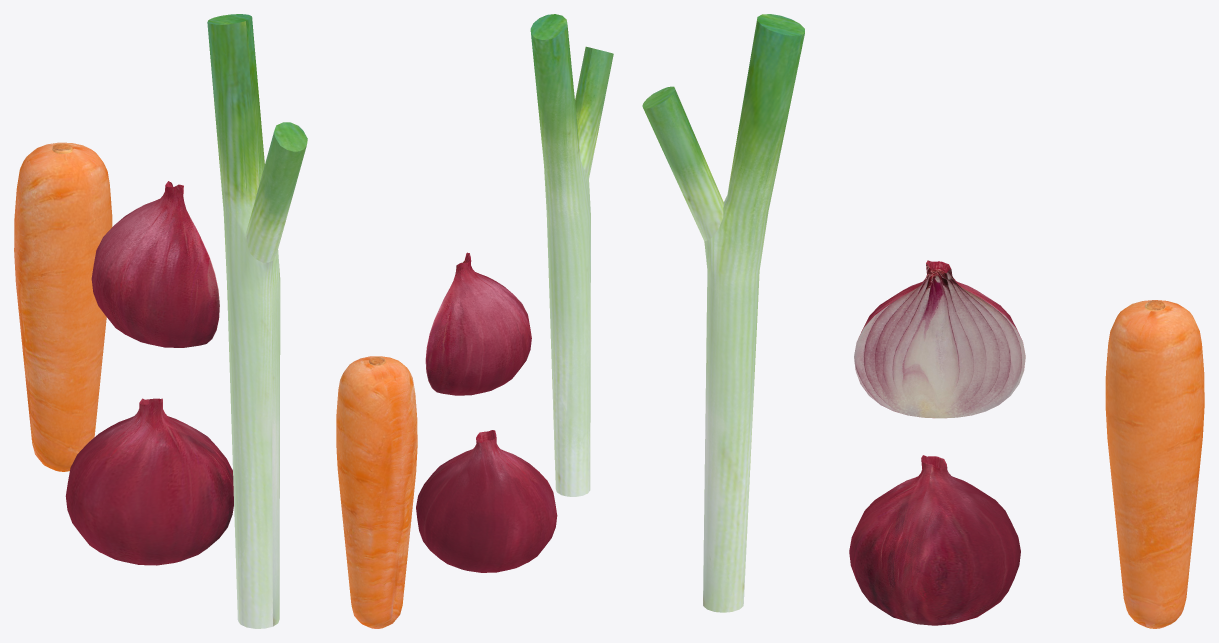
File: low-poly_veges.glb
The picture shows the model from 3 angles, left to right: view 1: azimuth 30°, elevation 25°; view 2: azimuth 150°, elevation 25°; view 3: azimuth 270°, elevation 25°; orthographic projection. The views are drawn at different scales.
Parts seen in each view (by area): view 1: pCylinder3, pSphere2, pSphere3, pSphere1; view 2: pCylinder3, pSphere2, pSphere3, pSphere1; view 3: pCylinder3, pSphere2, pSphere3, pSphere1.
Boxes of the visible parts, box(x1,y1,x2,y2) form: pCylinder3: box(207, 14, 307, 628); pSphere2: box(14, 142, 112, 471); pSphere3: box(65, 398, 233, 565); pSphere1: box(91, 181, 219, 347); pCylinder3: box(530, 14, 613, 496); pSphere2: box(336, 356, 417, 628); pSphere3: box(416, 430, 557, 572); pSphere1: box(425, 252, 531, 395); pCylinder3: box(642, 14, 804, 612); pSphere2: box(1105, 300, 1204, 628); pSphere3: box(849, 455, 1020, 625); pSphere1: box(854, 260, 1025, 418).
Size of the model in its own units: 6.07 by 23.29 by 19.86.
Materials: 1 (1 with a texture image).
